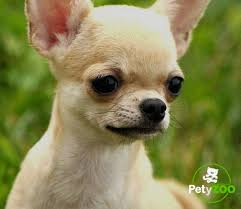chihuahua: (11, 1, 230, 209)
